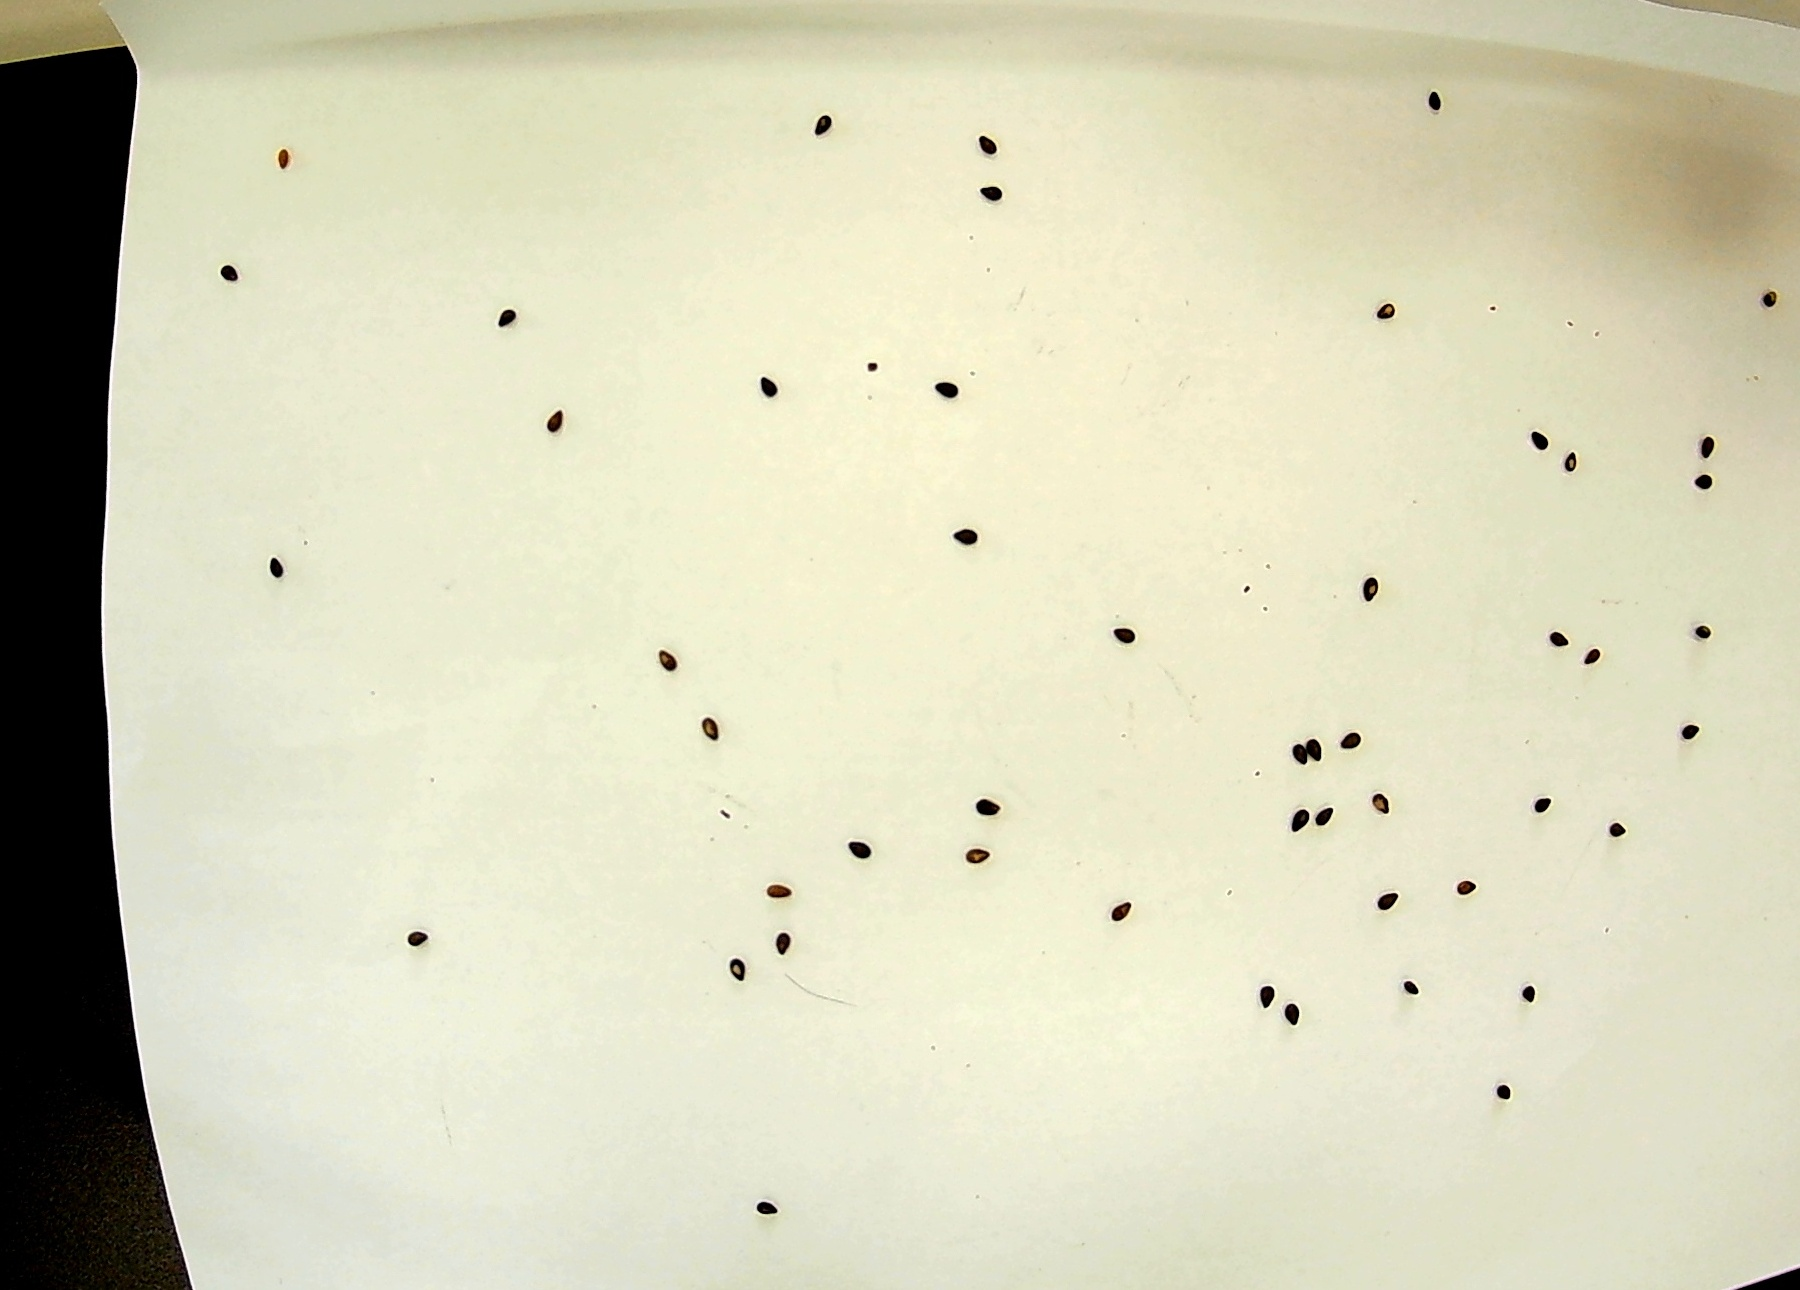sesami: (1233, 972, 1277, 1030), (1520, 415, 1575, 458), (530, 399, 576, 443), (1741, 278, 1787, 320), (1365, 295, 1408, 338), (1097, 891, 1141, 931), (258, 551, 303, 591), (721, 945, 758, 991), (1485, 1074, 1533, 1107), (1559, 447, 1605, 482), (760, 366, 800, 406), (973, 783, 1012, 824), (834, 833, 880, 866), (645, 649, 691, 680), (1274, 796, 1314, 831), (1362, 778, 1404, 811), (800, 107, 839, 141), (932, 371, 973, 403), (960, 124, 998, 158), (1676, 470, 1723, 497), (1275, 986, 1303, 1030), (760, 866, 795, 900), (966, 177, 1020, 200), (1693, 423, 1726, 459), (1395, 962, 1434, 993), (1305, 734, 1337, 771), (216, 254, 239, 306), (947, 504, 974, 547), (403, 924, 442, 954), (1513, 974, 1546, 1008), (1319, 797, 1345, 838), (1111, 611, 1141, 646), (1457, 861, 1487, 896), (767, 926, 795, 963), (1681, 726, 1720, 750), (269, 138, 294, 175), (1370, 885, 1400, 916), (751, 1196, 788, 1220), (1351, 572, 1381, 599), (1334, 727, 1360, 757), (700, 712, 726, 743), (1605, 815, 1638, 838), (1574, 646, 1607, 669), (1677, 623, 1715, 642), (964, 838, 989, 866), (491, 307, 526, 327), (1528, 793, 1553, 820), (1407, 91, 1446, 107), (1533, 630, 1570, 644), (1289, 739, 1303, 768)
